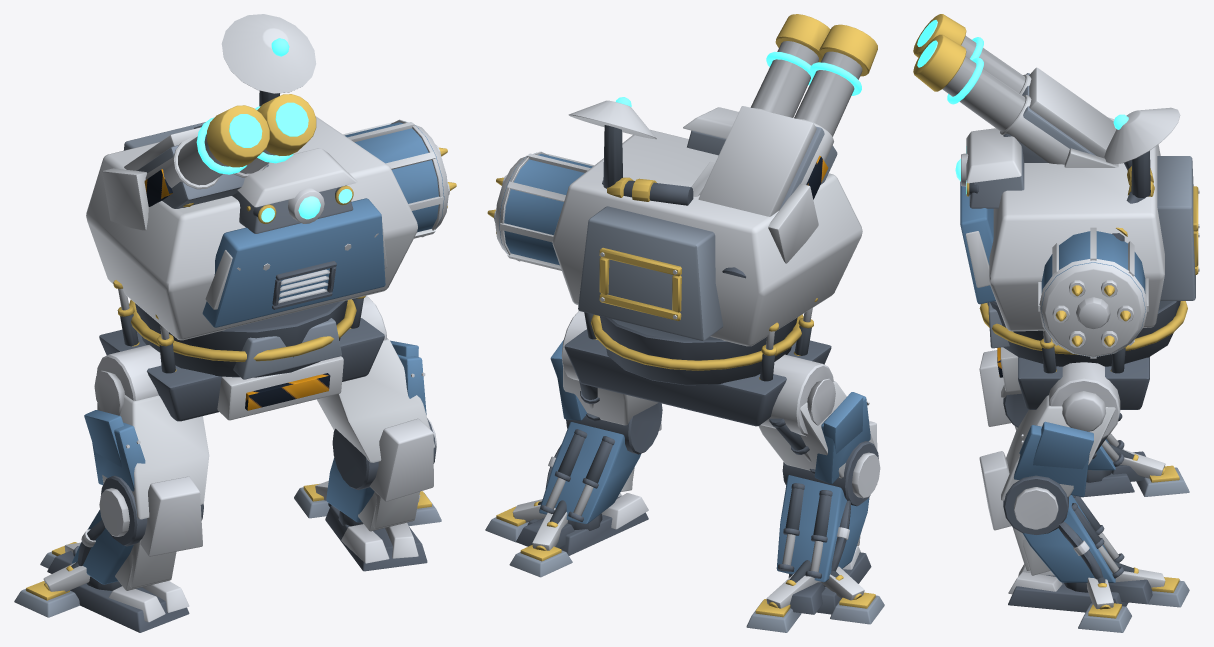
File: mortar_artillery.glb
3 renders of one model, left to right at view 1: azimuth 30°, elevation 25°; view 2: azimuth 150°, elevation 25°; view 3: azimuth 270°, elevation 25°, orthographic. The views are drawn at different scales.
Parts seen in each view (by area): view 1: BodyGroup_ArmorAlloy, RightThigh_ArmorAlloy, RightShin_ArmorAlloy, WeaponSlide_ArmorAlloy, LeftShin_ArmorAlloy, Pelvis_ArmorAlloy, LeftThigh_ArmorAlloy, RightFoot_ArmorAlloy, HeadGroup_ArmorAlloy, LeftArm_ArmorAlloy, LeftFoot_ArmorAlloy, WeaponSlide_A2_CyanReactor (+4 smaller); view 2: BodyGroup_ArmorAlloy, WeaponSlide_ArmorAlloy, RightShin_ArmorAlloy, RightThigh_ArmorAlloy, LeftArm_ArmorAlloy, LeftShin_ArmorAlloy, Pelvis_ArmorAlloy, LeftFoot_ArmorAlloy, RightFoot_ArmorAlloy, LeftThigh_ArmorAlloy, RightArm_ArmorAlloy, HeadGroup_ArmorAlloy (+1 smaller); view 3: BodyGroup_ArmorAlloy, WeaponSlide_ArmorAlloy, LeftArm_ArmorAlloy, LeftShin_ArmorAlloy, LeftThigh_ArmorAlloy, LeftFoot_ArmorAlloy, HeadGroup_ArmorAlloy, Pelvis_ArmorAlloy, RightFoot_ArmorAlloy, RightShin_ArmorAlloy, WeaponSlide_A2_CyanReactor, RightArm_ArmorAlloy.
Boxes of the visible parts, x1=… form: BodyGroup_ArmorAlloy: x1=86, y1=14, x2=417, y2=379; RightThigh_ArmorAlloy: x1=84, y1=345, x2=209, y2=519; RightShin_ArmorAlloy: x1=72, y1=475, x2=203, y2=590; WeaponSlide_ArmorAlloy: x1=124, y1=94, x2=316, y2=208; LeftShin_ArmorAlloy: x1=326, y1=418, x2=436, y2=531; Pelvis_ArmorAlloy: x1=99, y1=318, x2=384, y2=421; LeftThigh_ArmorAlloy: x1=317, y1=296, x2=434, y2=462; RightFoot_ArmorAlloy: x1=14, y1=542, x2=189, y2=632; HeadGroup_ArmorAlloy: x1=232, y1=148, x2=356, y2=233; LeftArm_ArmorAlloy: x1=194, y1=119, x2=456, y2=238; LeftFoot_ArmorAlloy: x1=294, y1=481, x2=441, y2=571; WeaponSlide_A2_CyanReactor: x1=196, y1=102, x2=308, y2=174; BodyGroup_ArmorAlloy: x1=552, y1=100, x2=862, y2=385; WeaponSlide_ArmorAlloy: x1=698, y1=14, x2=877, y2=278; RightShin_ArmorAlloy: x1=776, y1=421, x2=880, y2=582; RightThigh_ArmorAlloy: x1=758, y1=354, x2=875, y2=483; LeftArm_ArmorAlloy: x1=487, y1=151, x2=693, y2=270; LeftShin_ArmorAlloy: x1=539, y1=403, x2=662, y2=523; Pelvis_ArmorAlloy: x1=564, y1=329, x2=831, y2=426; LeftFoot_ArmorAlloy: x1=485, y1=493, x2=648, y2=577; RightFoot_ArmorAlloy: x1=746, y1=546, x2=884, y2=632; LeftThigh_ArmorAlloy: x1=550, y1=311, x2=658, y2=425; RightArm_ArmorAlloy: x1=691, y1=162, x2=818, y2=263; HeadGroup_ArmorAlloy: x1=683, y1=107, x2=738, y2=155; BodyGroup_ArmorAlloy: x1=960, y1=107, x2=1199, y2=373; WeaponSlide_ArmorAlloy: x1=913, y1=14, x2=1116, y2=164; LeftArm_ArmorAlloy: x1=1038, y1=160, x2=1154, y2=358; LeftShin_ArmorAlloy: x1=979, y1=451, x2=1124, y2=582; LeftThigh_ArmorAlloy: x1=1001, y1=362, x2=1122, y2=500; LeftFoot_ArmorAlloy: x1=1008, y1=561, x2=1189, y2=632; HeadGroup_ArmorAlloy: x1=961, y1=128, x2=1024, y2=208; Pelvis_ArmorAlloy: x1=1000, y1=347, x2=1149, y2=409; RightFoot_ArmorAlloy: x1=1080, y1=443, x2=1189, y2=497; RightShin_ArmorAlloy: x1=979, y1=350, x2=1124, y2=470; WeaponSlide_A2_CyanReactor: x1=917, y1=20, x2=983, y2=104; RightArm_ArmorAlloy: x1=1064, y1=117, x2=1118, y2=167.
Size of the model in its own units: 1.81 by 2.26 by 1.2.
7 materials, 1 textured.
